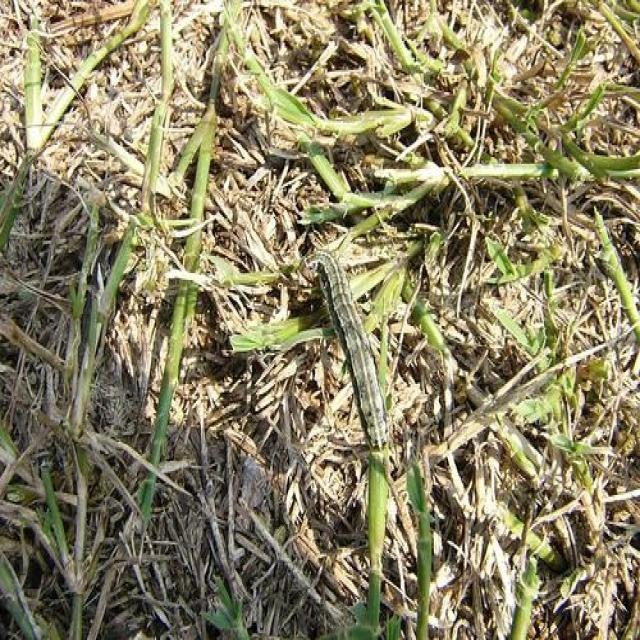army worm: (300, 246, 401, 452)
